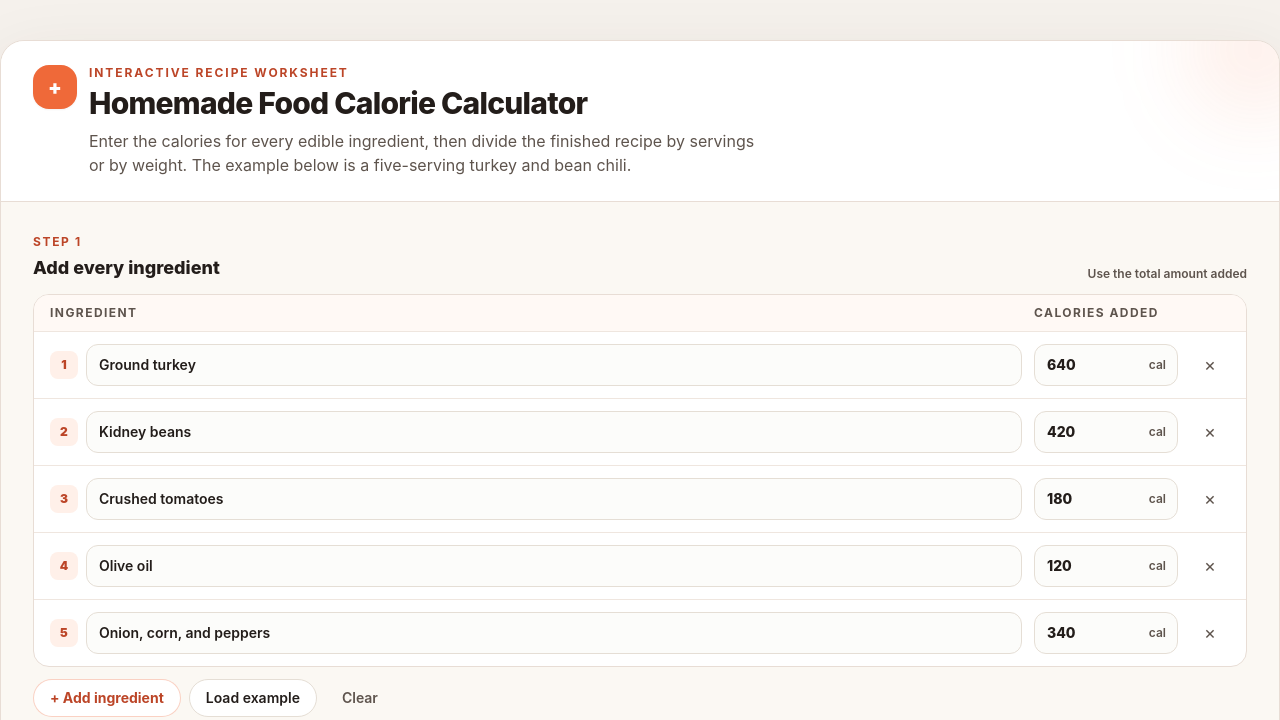
Test: HomemadeRecipeCalorieCalculator › recalculates the recipe total and serving result as inputs change
The width and height of the screenshot is (1280, 720).
Replace the text in the number field named "Ingredient 1 calories" with "500": (1106, 365) [1034, 344, 1178, 386]
(page scrolled)
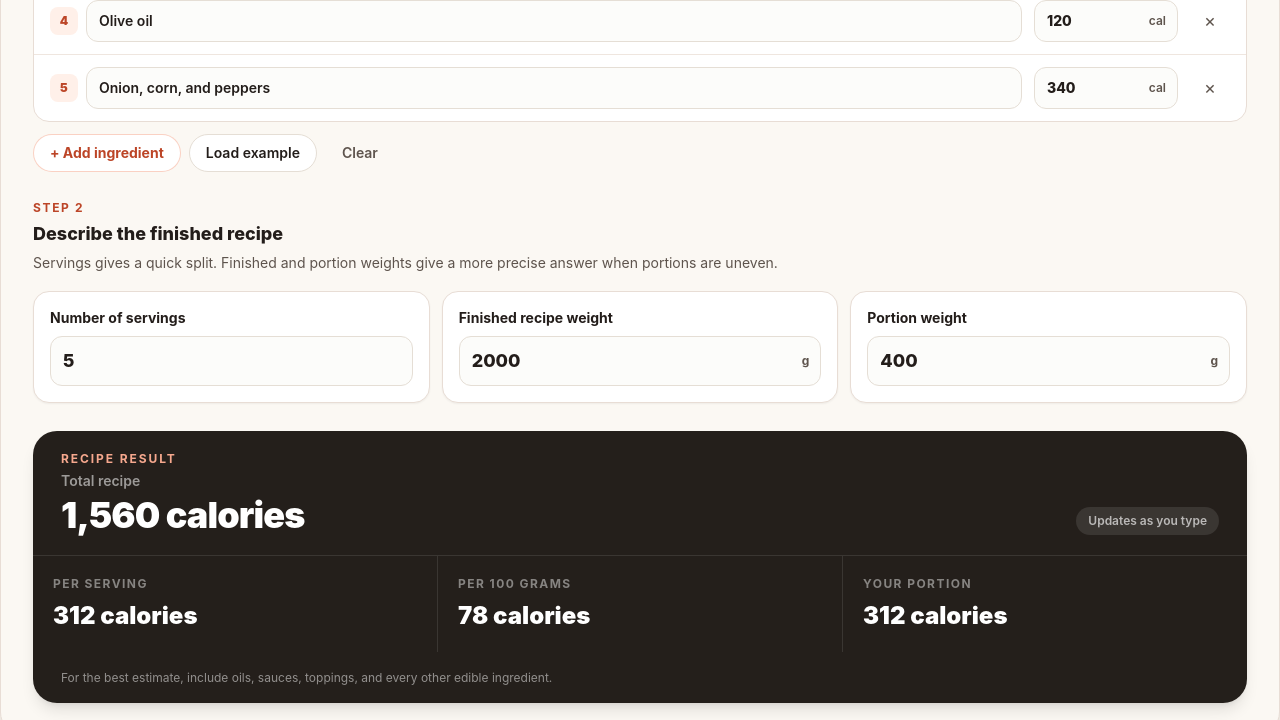
Replace the text in the number field labelled "Number of servings" with "4": (231, 361) [50, 336, 413, 386]
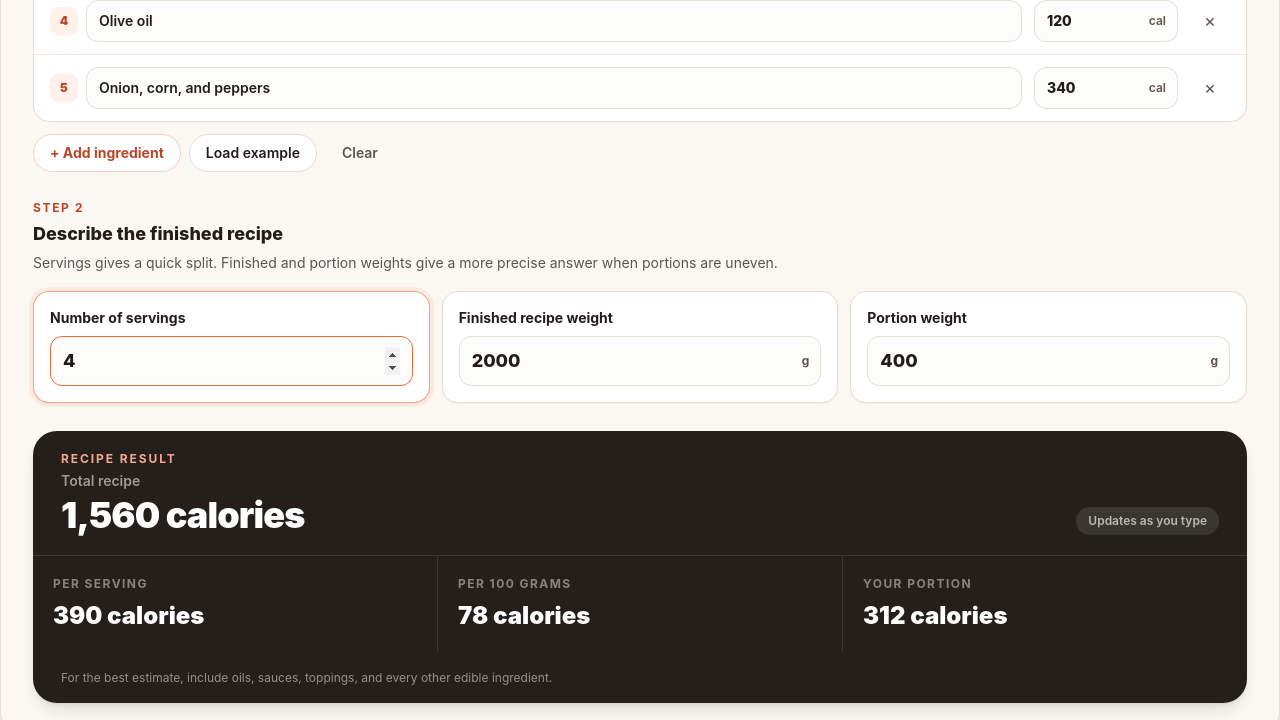
Result: the text "1,560 calories" is shown at [61, 495, 304, 535]
Result: the text "390 calories" is shown at [53, 601, 204, 630]
